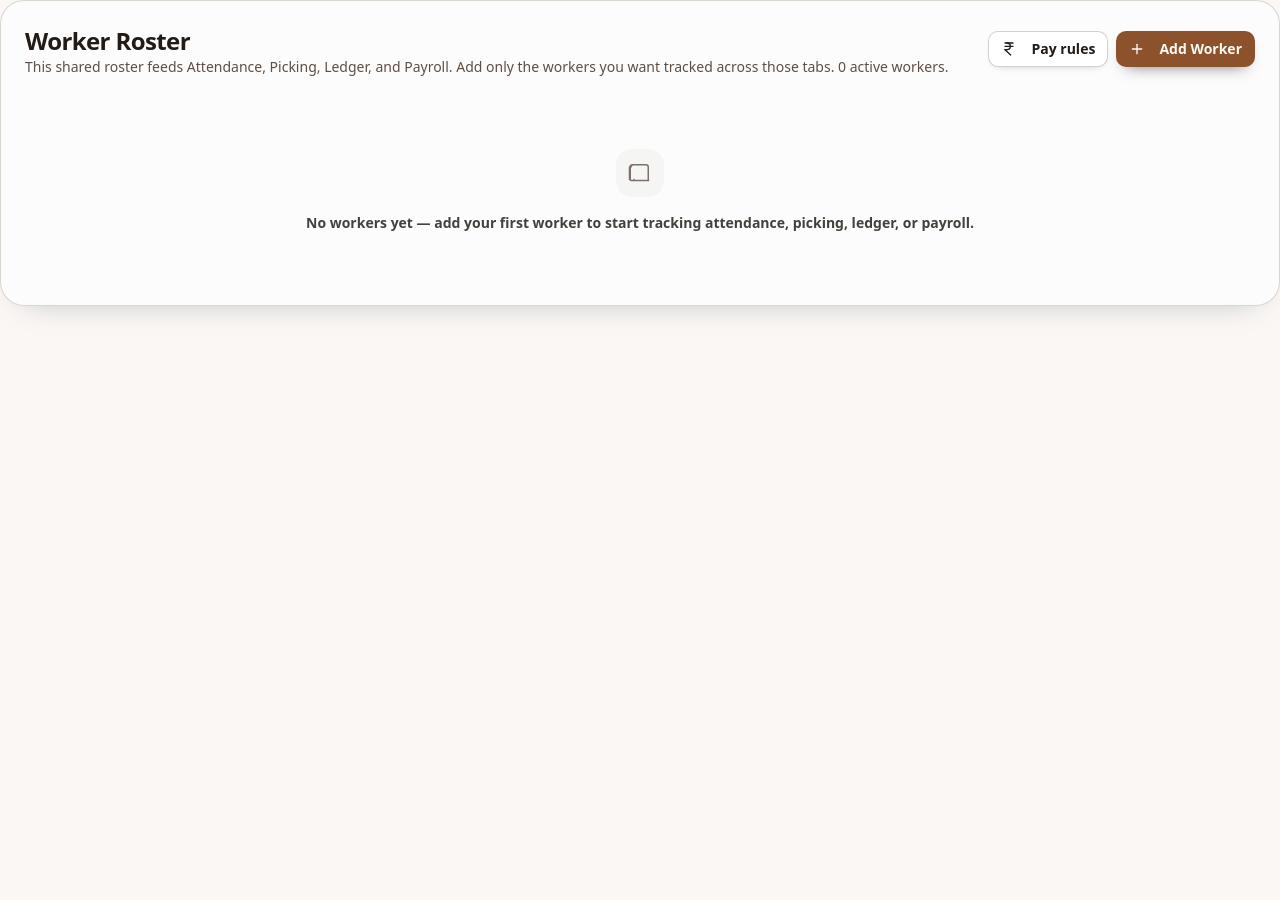
the add-worker form saves on Enter › keeps the person/crew toggle a toggle, not a submit
This screenshot has width=1280, height=900.
Click the button "Add Worker".
click(1186, 49)  # box [1116,31,1255,67]
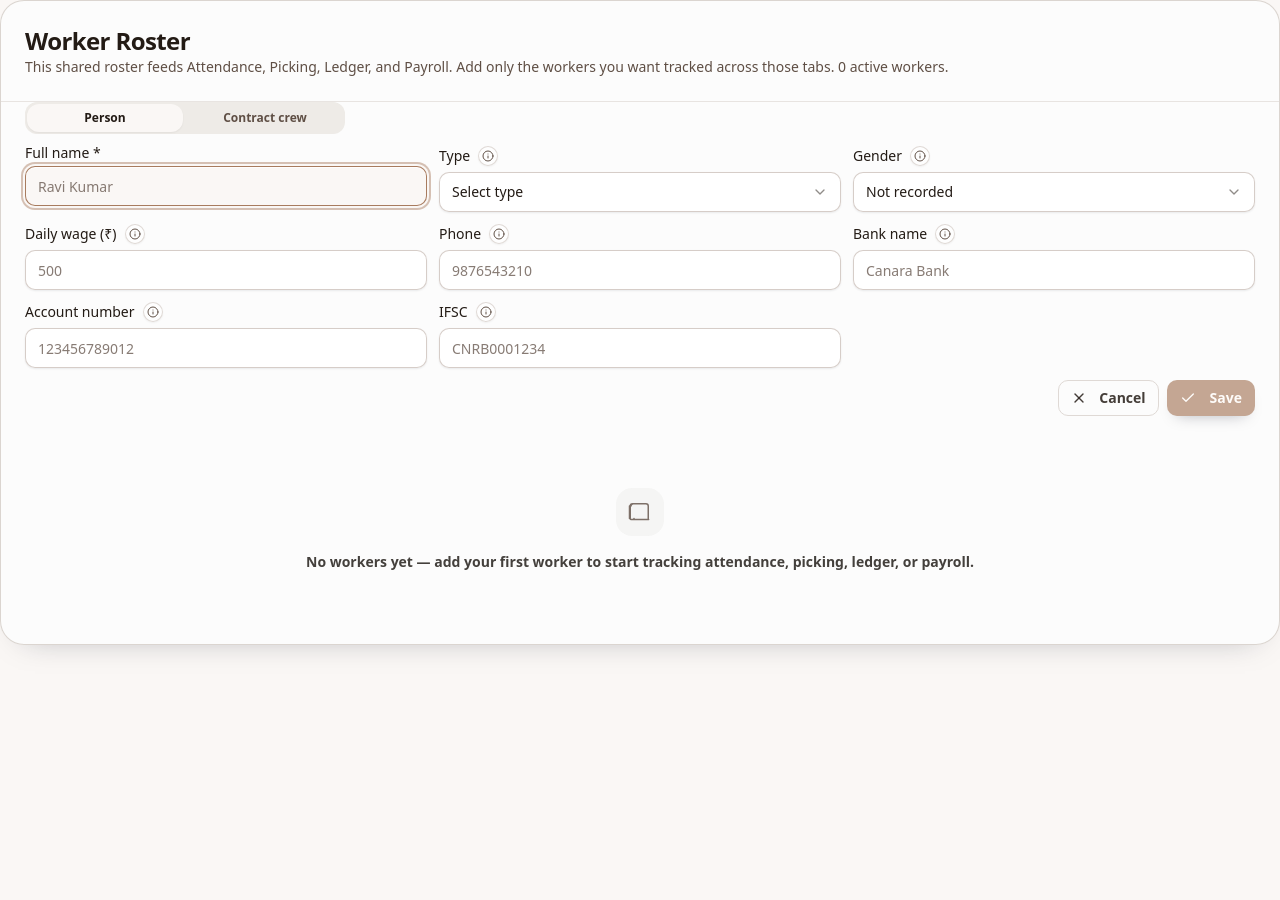
Type "Rathi & Team" into the field labelled "Full name *".
click(226, 186); type("Rathi & Team")  # box [25,166,427,206]
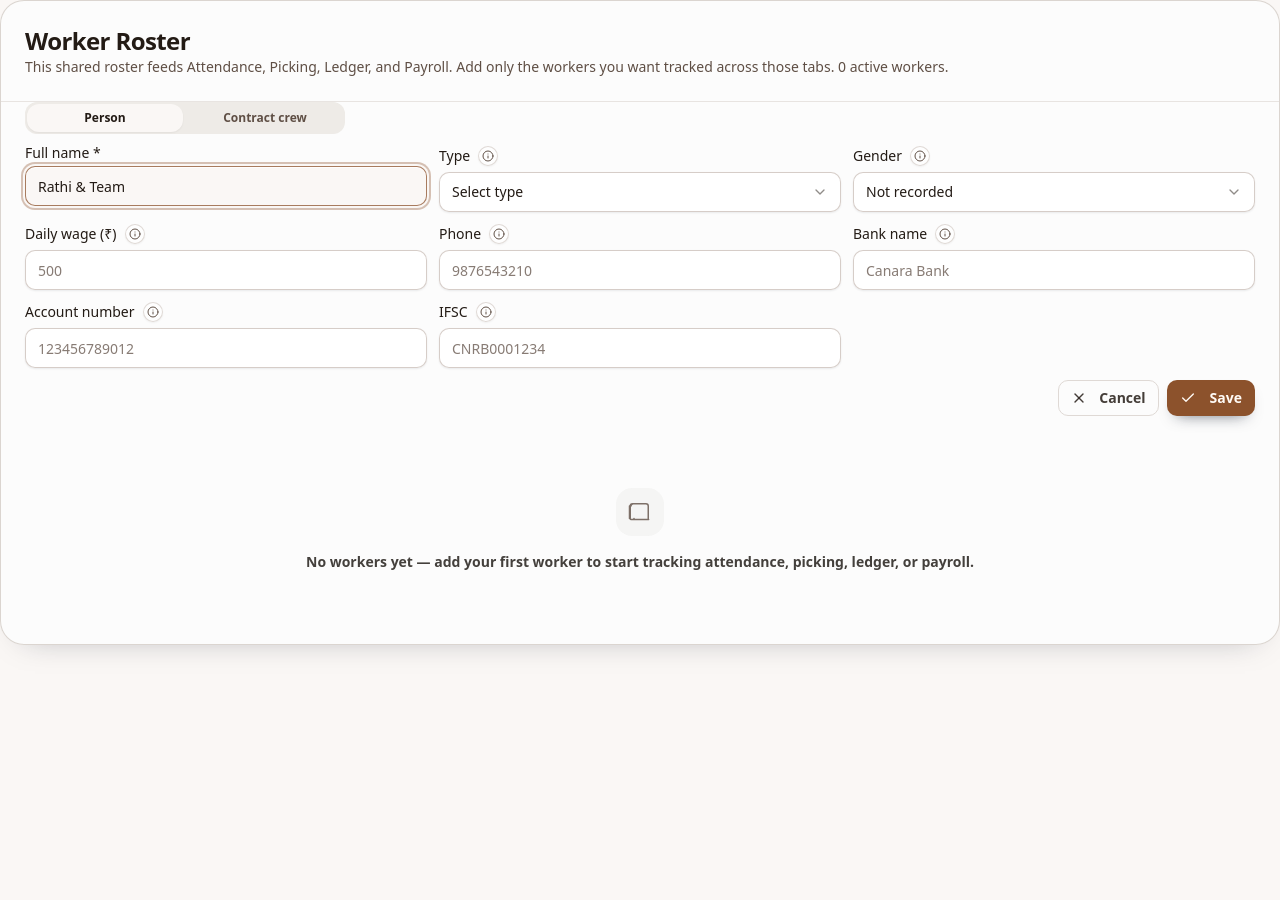
Click the button "Contract crew".
click(265, 118)  # box [187,104,343,132]
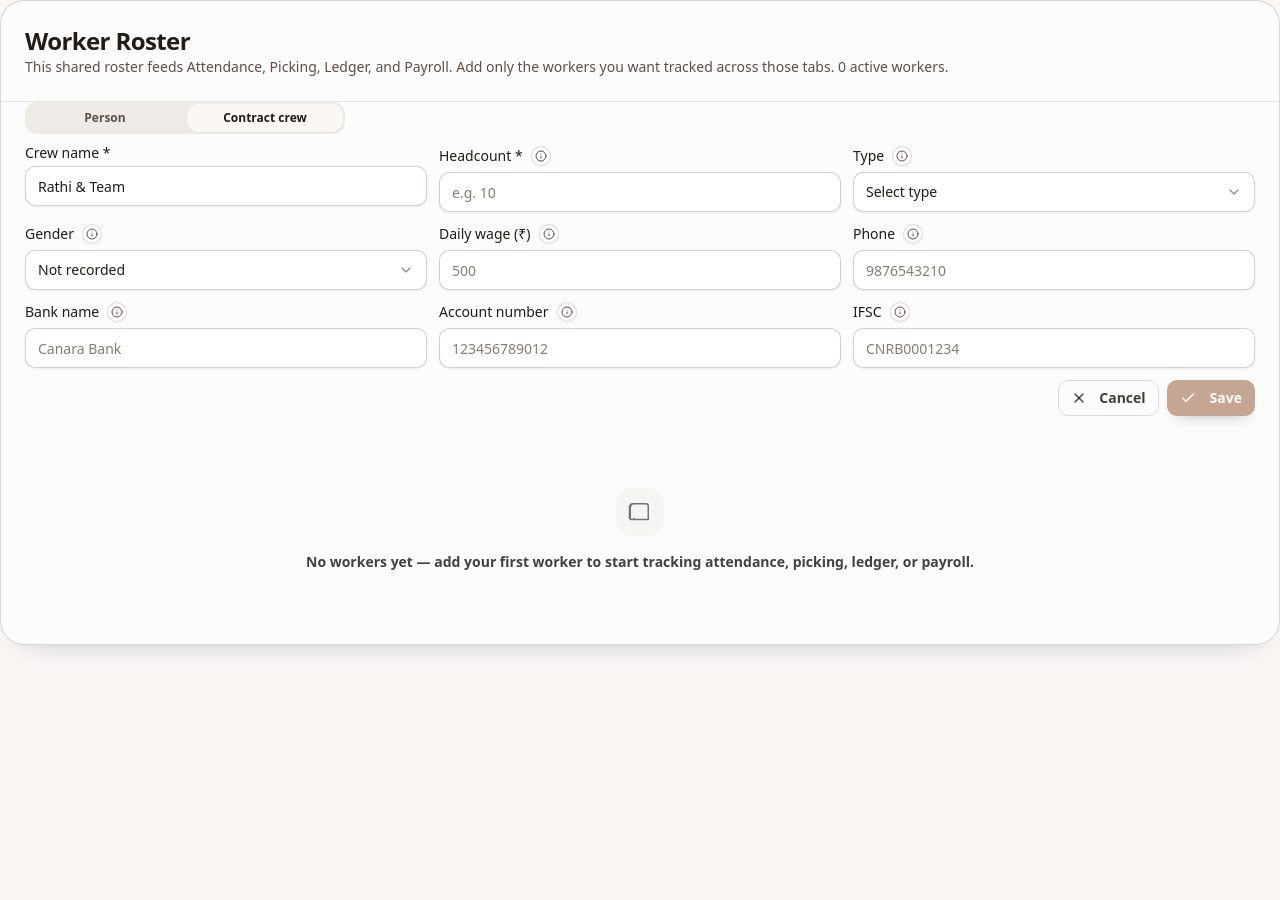
Expected: the field labelled "Headcount *" is shown, [439,172,841,212]
